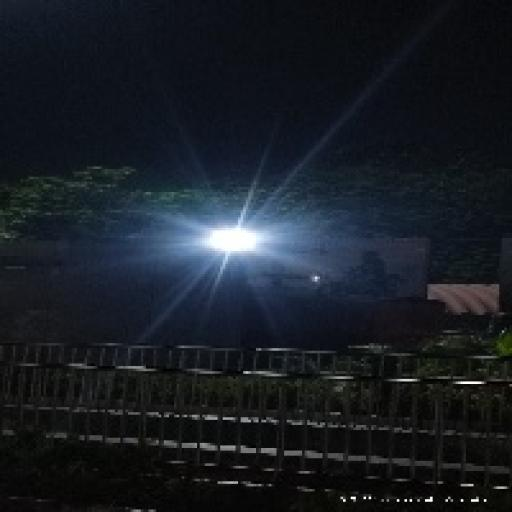Working: (200, 222, 264, 260)
